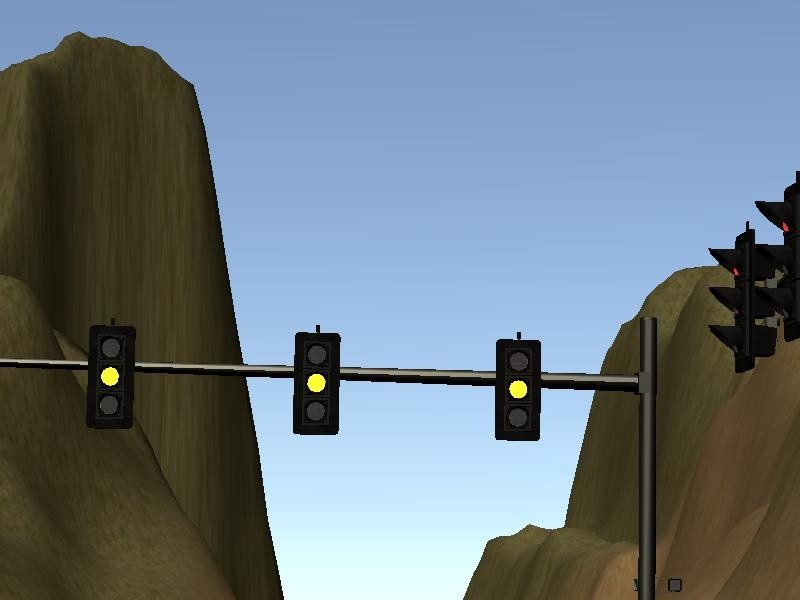YELLOW: (494, 338, 543, 440), (293, 332, 342, 434), (86, 324, 135, 426)
